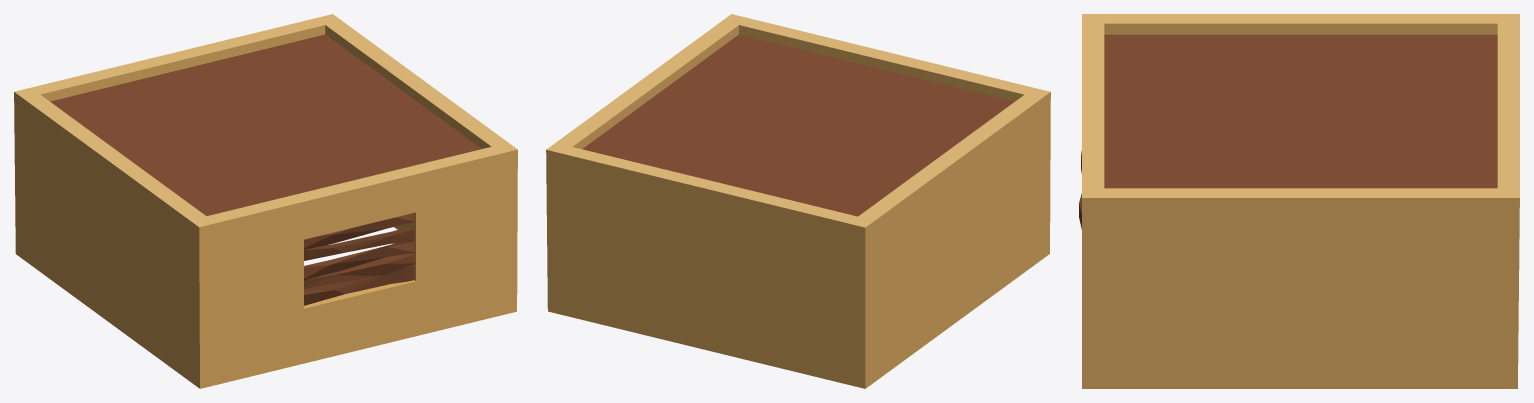
File: Model_Desert_3x3A.fbx
3 views of the same model, side by side, from view 1: azimuth 30°, elevation 25°; view 2: azimuth 150°, elevation 25°; view 3: azimuth 270°, elevation 25° (orthographic). The views are drawn at different scales.
Visible parts, largest first — view 1: Model_Frost_3x3A; view 2: Model_Frost_3x3A; view 3: Model_Frost_3x3A.
Part boxes in pixels (bbox=[...]): Model_Frost_3x3A: bbox=[14, 14, 517, 388]; Model_Frost_3x3A: bbox=[546, 14, 1050, 388]; Model_Frost_3x3A: bbox=[1079, 14, 1519, 388].
Bounding box in the file's own units: 593 × 288 × 600.
Materials: 1 (1 with a texture image).
